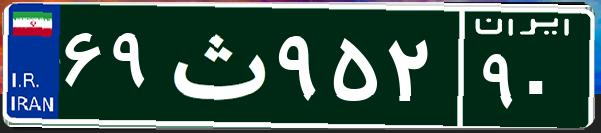0: (525, 38, 570, 115)
2: (385, 28, 445, 110)
5: (330, 28, 385, 110)
6: (57, 26, 110, 107)
9: (273, 28, 330, 110), (475, 38, 525, 113), (110, 28, 158, 105)
ث: (158, 15, 273, 115)
